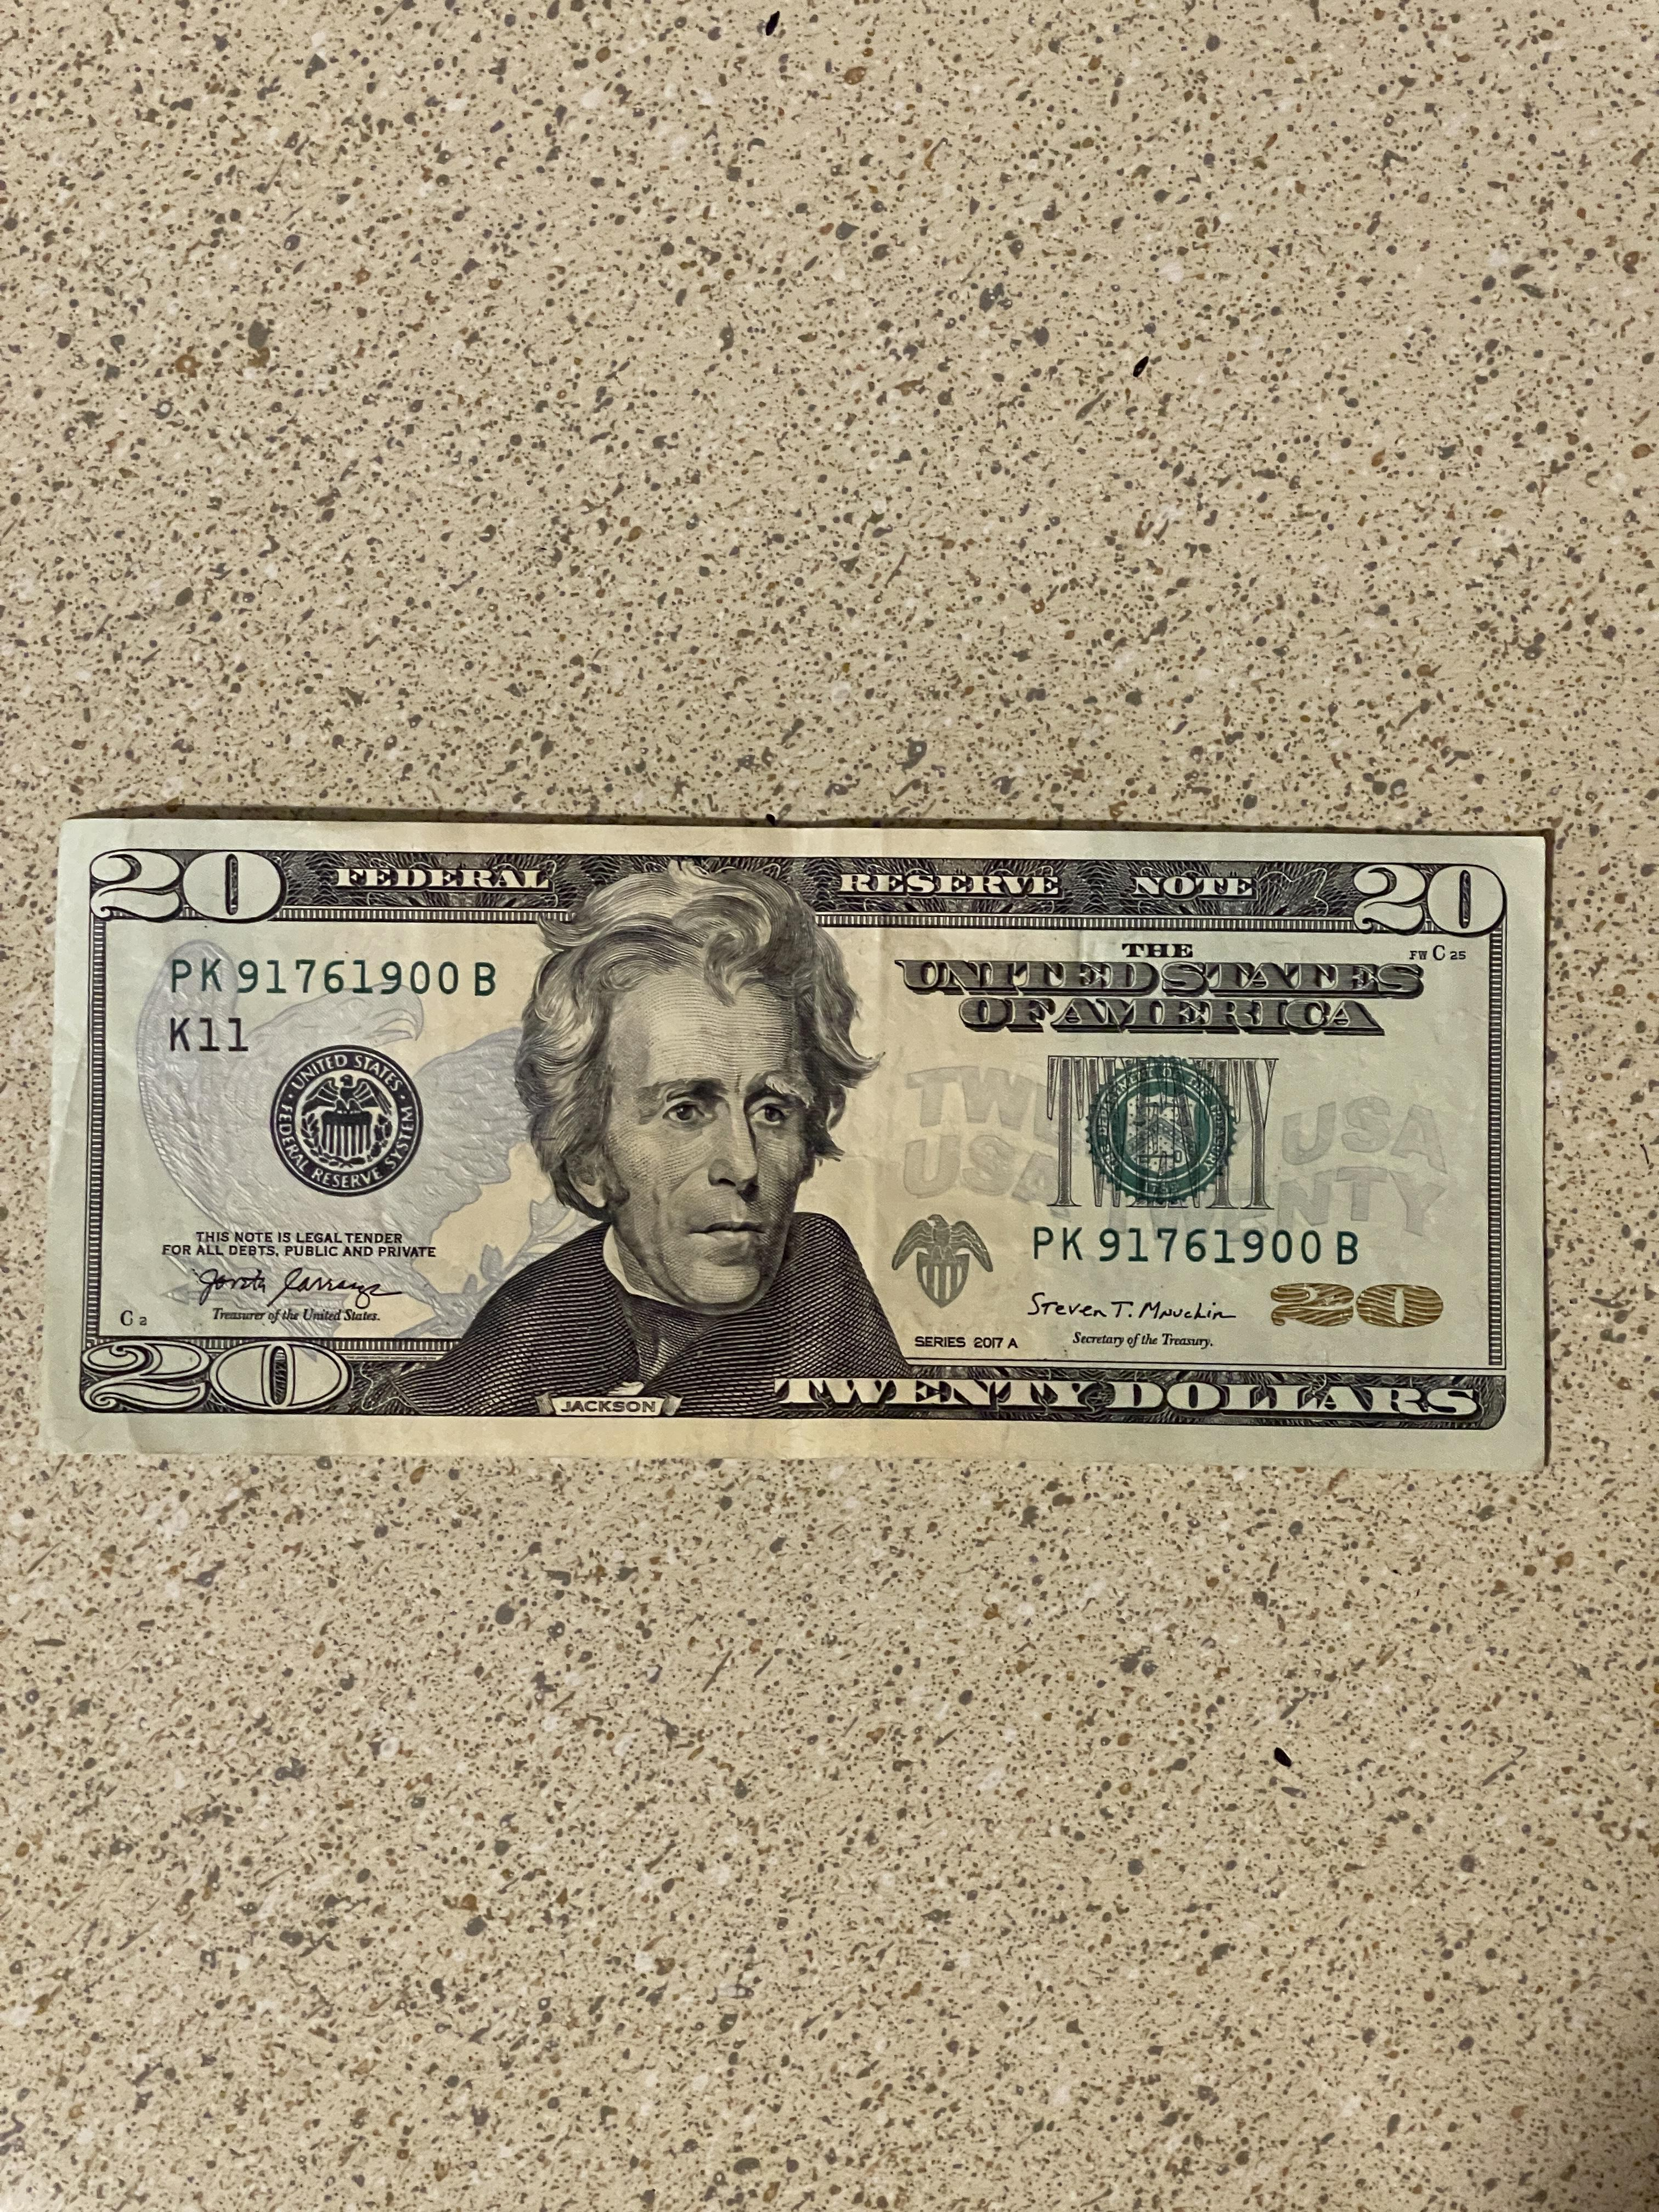TwentyBill: (35, 812, 1553, 1479)
